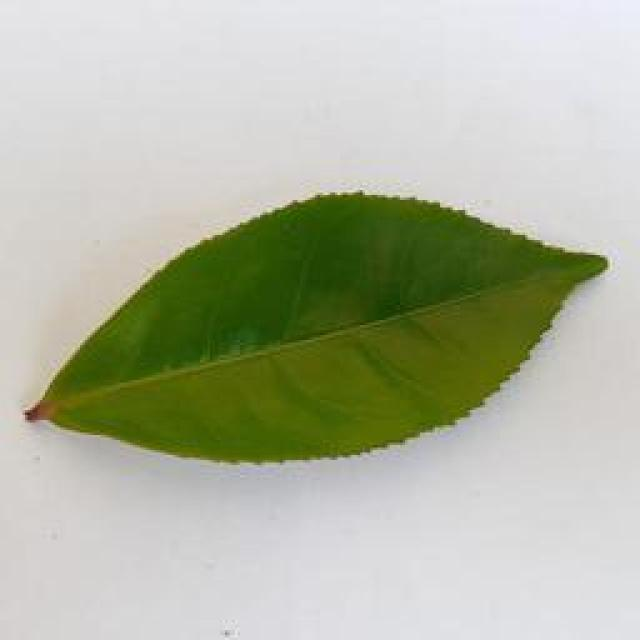Healthy: (30, 197, 602, 455)
